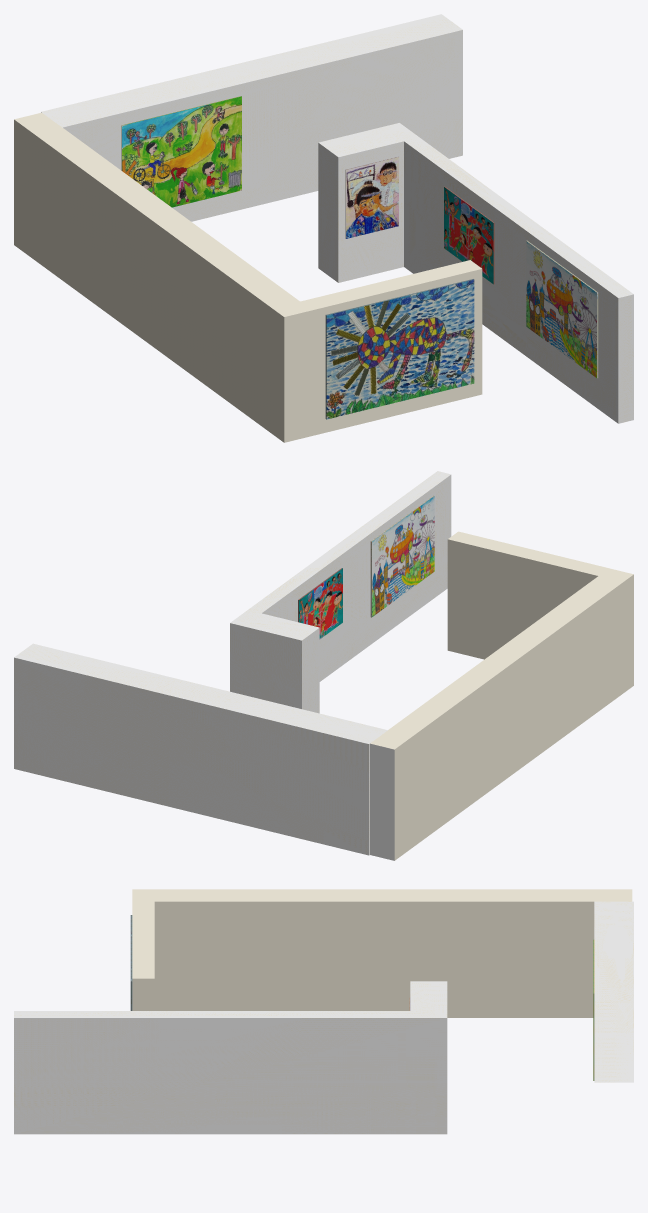
Rendered from lionexh.glb.
3 renders of one model, top to bottom at view 1: azimuth 30°, elevation 25°; view 2: azimuth 150°, elevation 25°; view 3: azimuth 270°, elevation 25°, orthographic. The views are drawn at different scales.
Parts seen in each view (by area): view 1: instance_0.006, instance_0.005, instance_0, instance_0.010, instance_0.004, instance_0.001, instance_0.003, instance_0.002; view 2: instance_0.005, instance_0.006, instance_0, instance_0.001, instance_0.007, instance_0.002; view 3: instance_0.006, instance_0, instance_0.005.
Part boxes in pixels (left/top/right/bottom): instance_0.006: left=14, top=112, right=482, bottom=442; instance_0.005: left=41, top=14, right=462, bottom=221; instance_0: left=318, top=123, right=633, bottom=423; instance_0.010: left=325, top=279, right=474, bottom=419; instance_0.004: left=121, top=96, right=241, bottom=207; instance_0.001: left=526, top=240, right=598, bottom=378; instance_0.003: left=345, top=156, right=398, bottom=238; instance_0.002: left=444, top=186, right=494, bottom=284; instance_0.005: left=14, top=643, right=387, bottom=855; instance_0.006: left=370, top=531, right=633, bottom=860; instance_0: left=230, top=471, right=451, bottom=713; instance_0.001: left=370, top=495, right=434, bottom=617; instance_0.007: left=370, top=743, right=394, bottom=860; instance_0.002: left=298, top=568, right=342, bottom=639; instance_0.006: left=132, top=889, right=632, bottom=1017; instance_0: left=14, top=981, right=447, bottom=1134; instance_0.005: left=594, top=901, right=633, bottom=1082.
Bounding box in the file's own units: 10.7 × 3 × 14.5.
Materials: 7 (5 with a texture image).
